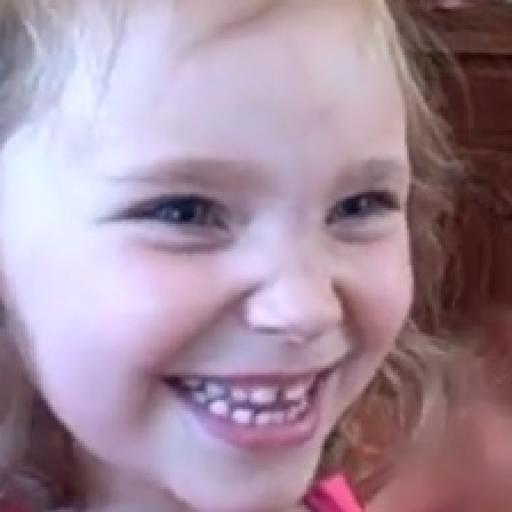Autism: (7, 4, 451, 512)
